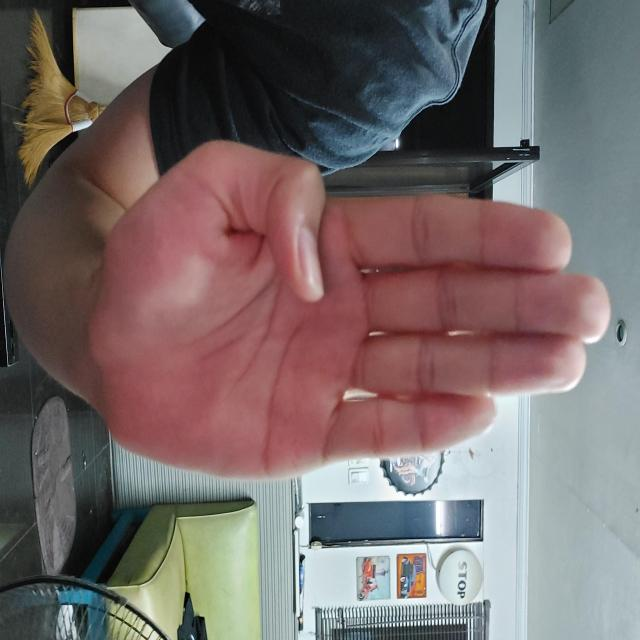B: (138, 29, 480, 552)
